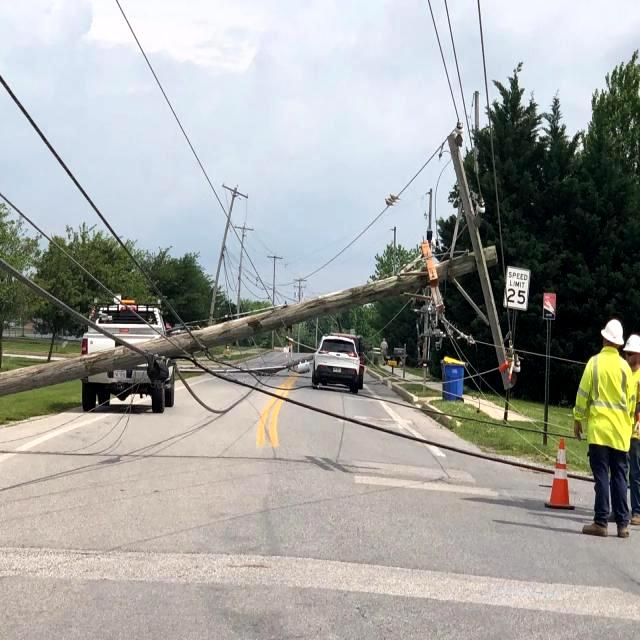Broken Pole: (0, 125, 529, 400)
